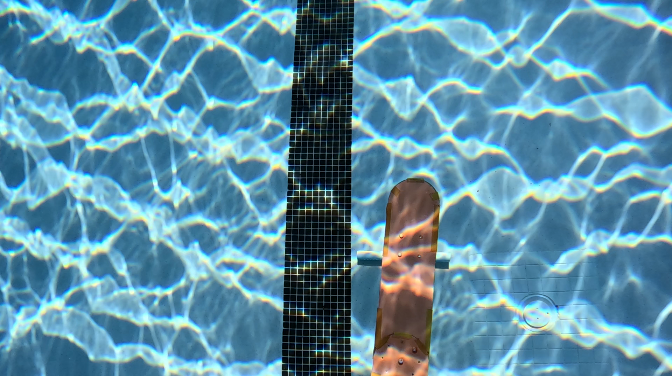pathmarker: (372, 179, 438, 375)
